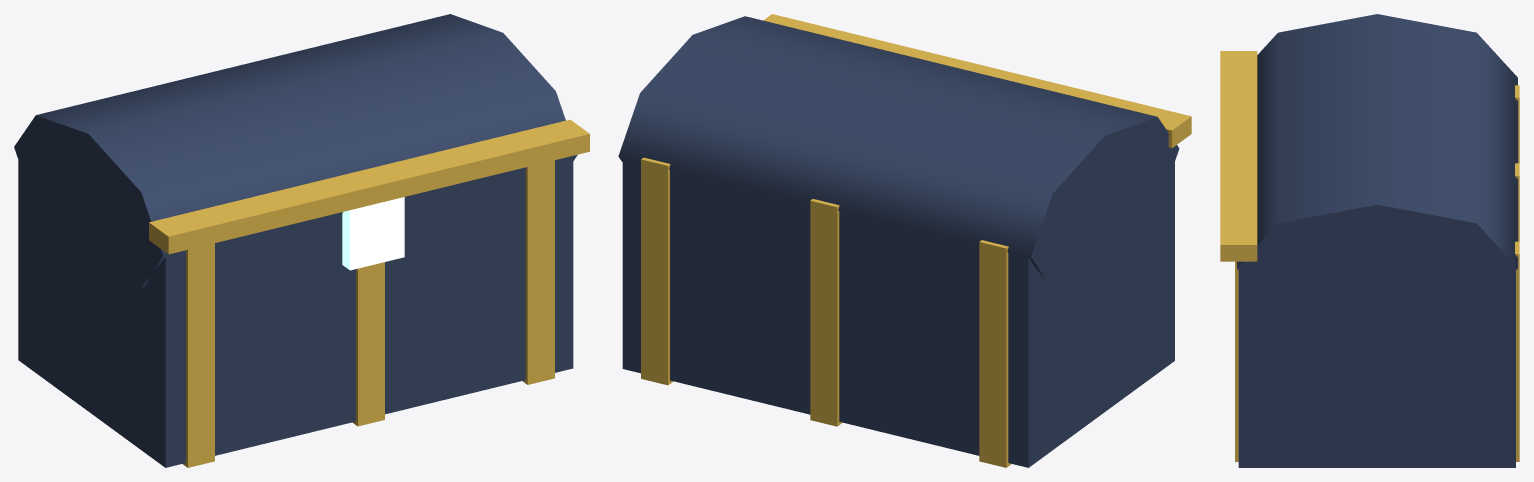
File: chest_big.glb
The picture shows the model from 3 angles, left to right: view 1: azimuth 30°, elevation 25°; view 2: azimuth 150°, elevation 25°; view 3: azimuth 270°, elevation 25°; orthographic projection. The views are drawn at different scales.
Parts seen in each view (by area): view 1: chest_big, lid; view 2: chest_big, lid; view 3: lid, chest_big.
Part boxes in pixels (bbox=[...]): chest_big: bbox=[18, 157, 573, 467]; lid: bbox=[14, 14, 589, 287]; chest_big: bbox=[622, 157, 1174, 467]; lid: bbox=[618, 14, 1191, 288]; lid: bbox=[1220, 14, 1517, 331]; chest_big: bbox=[1235, 85, 1519, 467].
Size of the model in its own units: 1.24 by 0.8 by 0.81.
